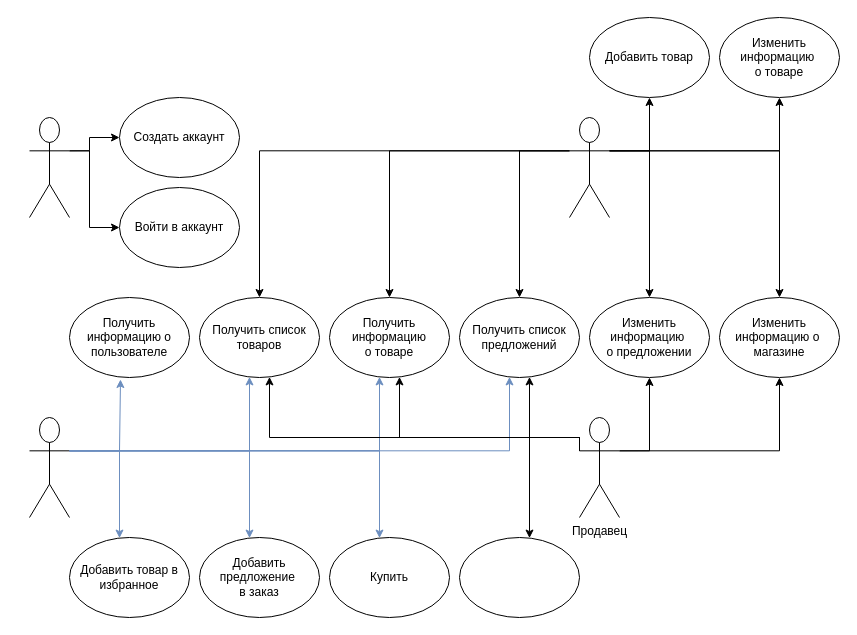
The diagram is 857 pixels wide and 635 high, and some of its shapes have lost their labels. The shapes that lost their labels are listed below. From the top down, each one's centre as x and y in pixels, then its label:
At pixel 49 167: "Гость".
At pixel 589 167: "Администратор".
At pixel 49 467: "Покупатель".
At pixel 519 577: "Добавить предложение".
